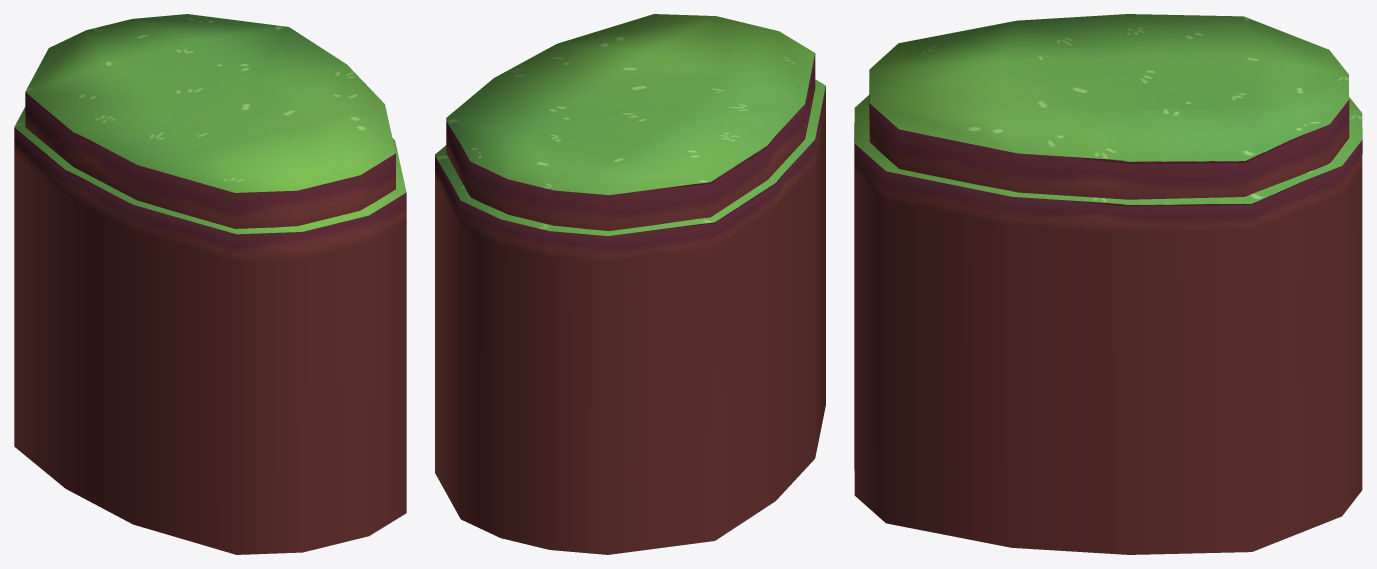
Rendered from island_02.gltf.
The picture shows the model from 3 angles, left to right: view 1: azimuth 30°, elevation 25°; view 2: azimuth 150°, elevation 25°; view 3: azimuth 270°, elevation 25°; orthographic projection. The views are drawn at different scales.
Visible parts, largest first — view 1: Island02Mesh; view 2: Island02Mesh; view 3: Island02Mesh.
Boxes of the visible parts, x1=… form: Island02Mesh: x1=14, y1=14, x2=406, y2=554; Island02Mesh: x1=435, y1=14, x2=825, y2=554; Island02Mesh: x1=854, y1=14, x2=1362, y2=554.
Size of what is drawn, in the model's own units: 9.82 by 11.63 by 13.58.
1 material, 1 textured.
